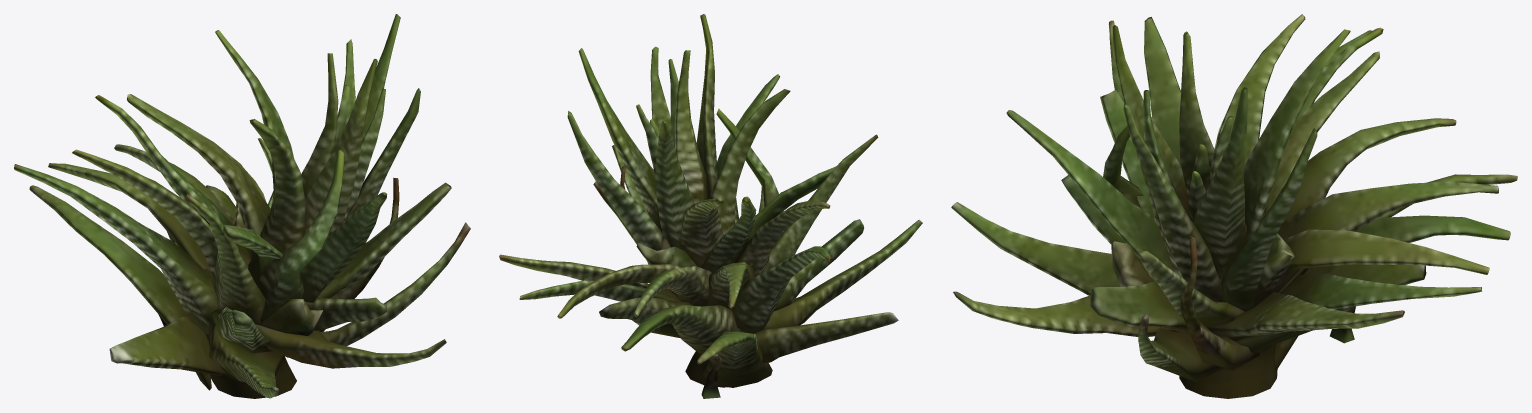
File: rosette-haworthia.glb
3 views of the same model, side by side, from view 1: azimuth 30°, elevation 25°; view 2: azimuth 150°, elevation 25°; view 3: azimuth 270°, elevation 25° (orthographic). The views are drawn at different scales.
Visible parts, largest first — view 1: potted_plant_04_plant; view 2: potted_plant_04_plant; view 3: potted_plant_04_plant.
Part boxes in pixels (box(x1,y1,x2,y2)): potted_plant_04_plant: box(14, 14, 470, 398); potted_plant_04_plant: box(499, 14, 922, 398); potted_plant_04_plant: box(951, 14, 1517, 398).
Bounding box in the file's own units: 0.1461 × 0.1323 × 0.1731.
Materials: 1 (1 with a texture image).
